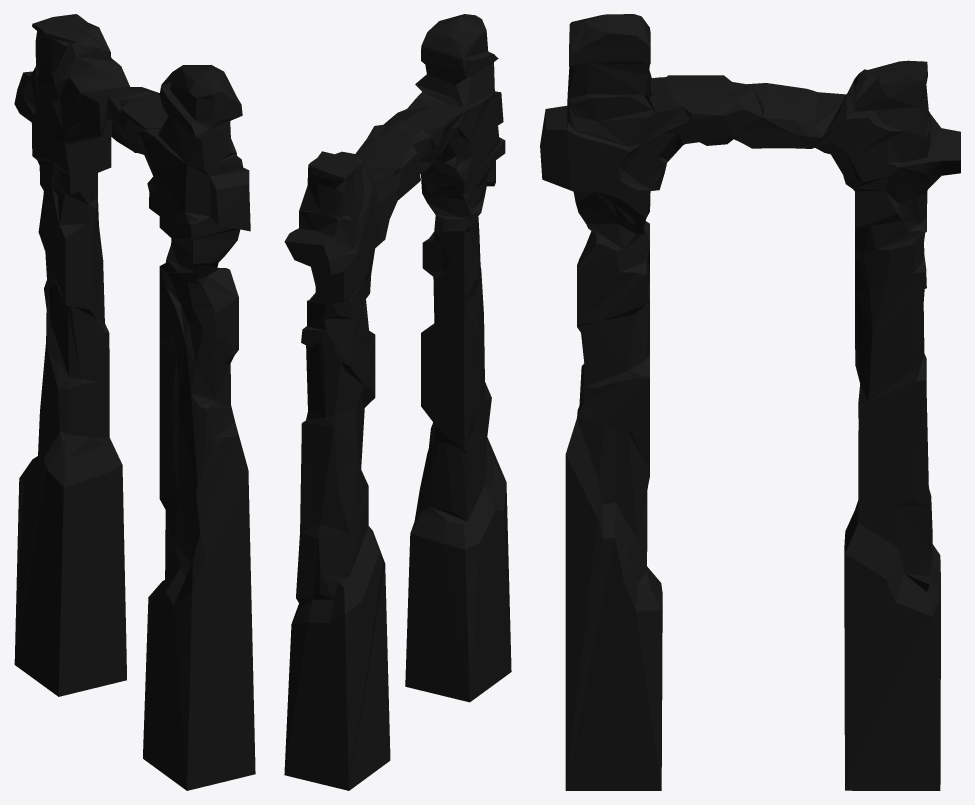
Rendered from pit_pillar_b.gltf.
The picture shows the model from 3 angles, left to right: view 1: azimuth 30°, elevation 25°; view 2: azimuth 150°, elevation 25°; view 3: azimuth 270°, elevation 25°; orthographic projection. The views are drawn at different scales.
Visible parts, largest first — view 1: pit_pillar_b; view 2: pit_pillar_b; view 3: pit_pillar_b.
Boxes of the visible parts, x1,y1,x2,y2 form: pit_pillar_b: (14, 14, 255, 790); pit_pillar_b: (284, 14, 511, 790); pit_pillar_b: (540, 14, 960, 790).
Size of the model in its own units: 3.13 by 28.46 by 14.29.
1 material, 1 textured.
